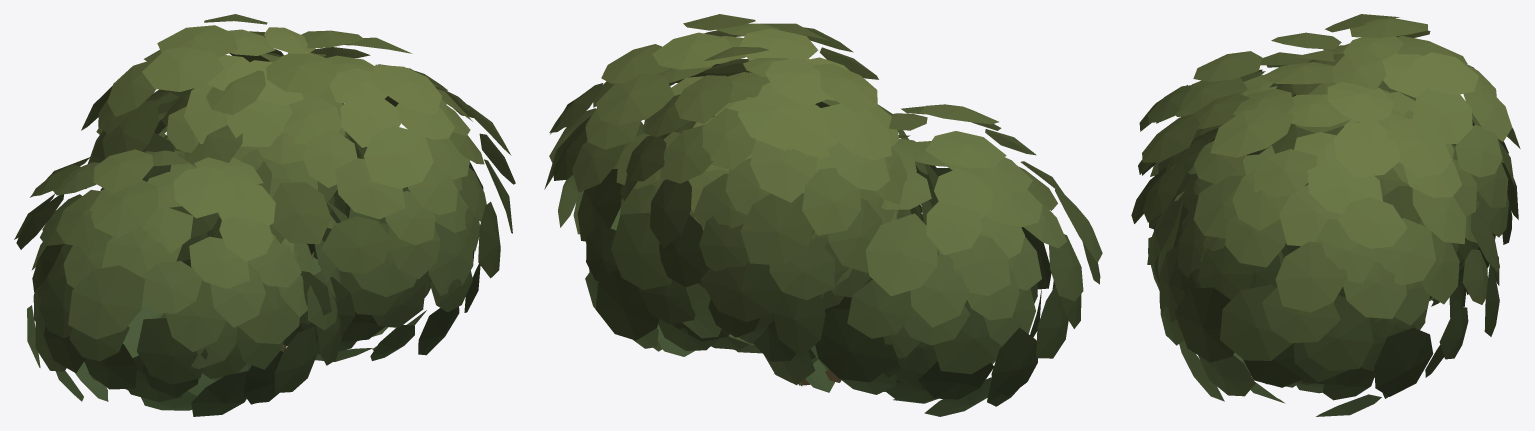
The model's file is dressing-bush-a.glb.
3 renders of one model, left to right at view 1: azimuth 30°, elevation 25°; view 2: azimuth 150°, elevation 25°; view 3: azimuth 270°, elevation 25°, orthographic. The views are drawn at different scales.
Visible parts, largest first — view 1: bush-broad-folded-leaves; view 2: bush-broad-folded-leaves; view 3: bush-broad-folded-leaves.
Boxes of the visible parts, box(x1,y1,x2,y2) form: bush-broad-folded-leaves: box(14, 14, 515, 416); bush-broad-folded-leaves: box(544, 14, 1102, 416); bush-broad-folded-leaves: box(1131, 14, 1520, 416).
Size of the model in its own units: 2.08 by 1.35 by 1.42.
